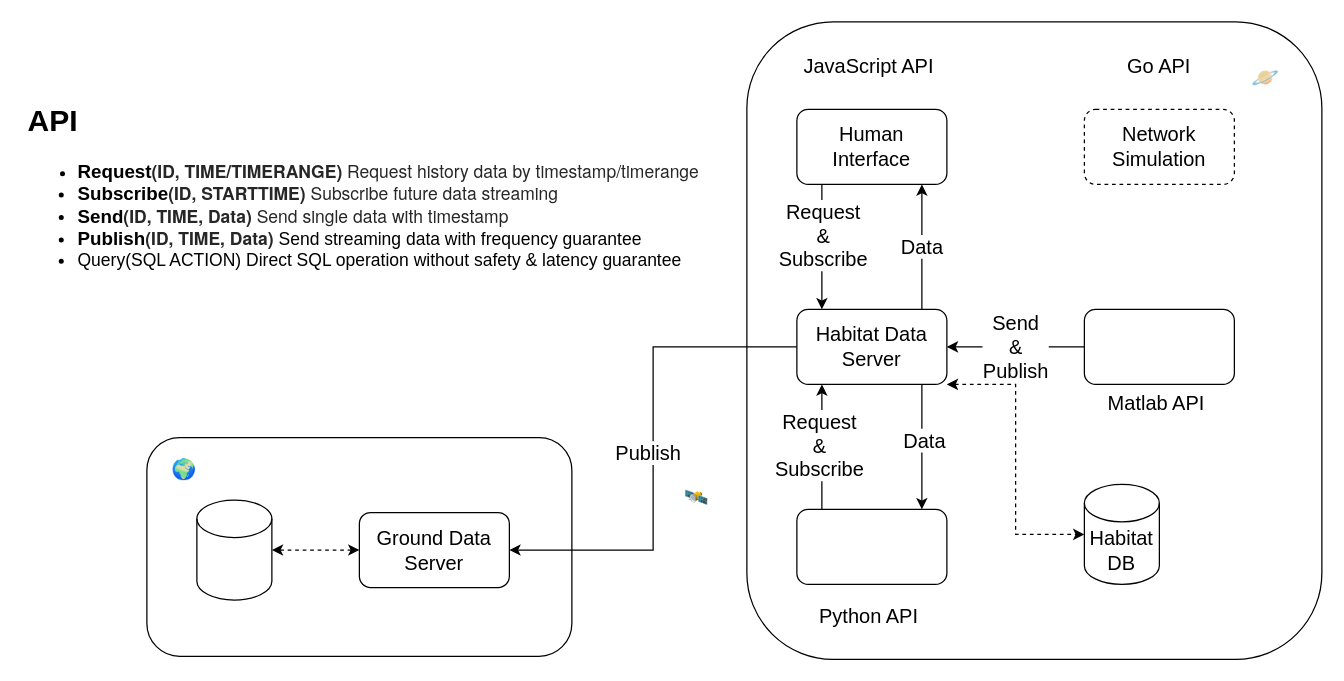
Some shapes in this 1344 by 681 pixel diagram are drawn without their labels. Each missing label, with the box of its shape:
Decision Making: (796, 508, 947, 584)
EMS: (1083, 308, 1234, 384)
Ground DB: (196, 499, 272, 600)
